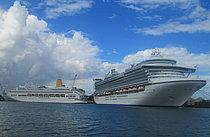Ship: (88, 46, 210, 111), (4, 77, 91, 109)
